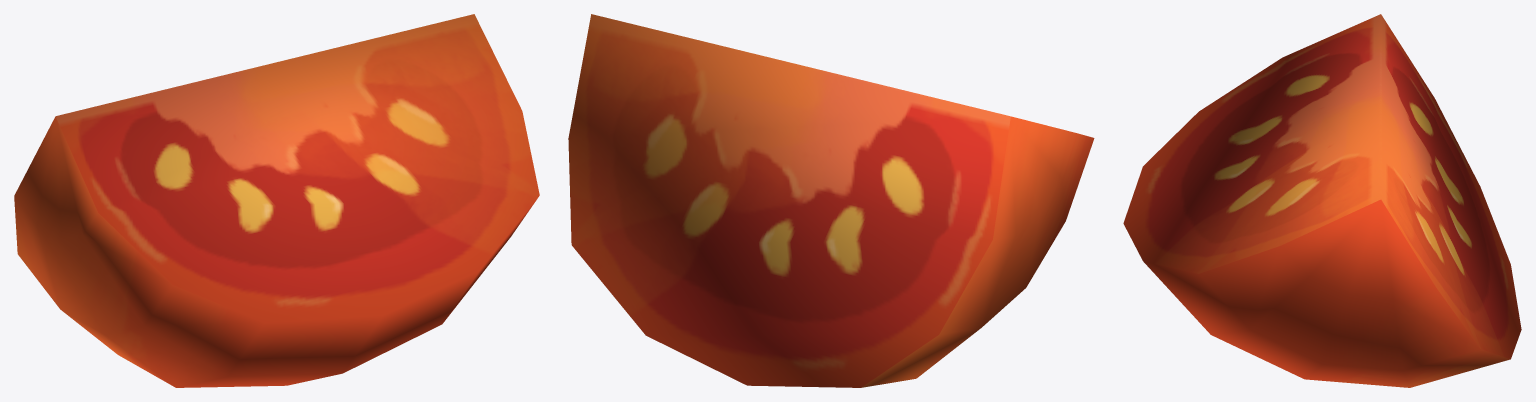
The model's file is Tomat_potong.fbx.
3 renders of one model, left to right at view 1: azimuth 30°, elevation 25°; view 2: azimuth 150°, elevation 25°; view 3: azimuth 270°, elevation 25°, orthographic. The views are drawn at different scales.
Parts seen in each view (by area): view 1: Plane.004; view 2: Plane.004; view 3: Plane.004.
Part boxes in pixels (x1=…): Plane.004: x1=14, y1=14, x2=539, y2=387; Plane.004: x1=568, y1=14, x2=1094, y2=387; Plane.004: x1=1123, y1=14, x2=1521, y2=387.
Size of the model in its own units: 13.8 by 12.18 by 8.93.
1 material, 1 textured.
